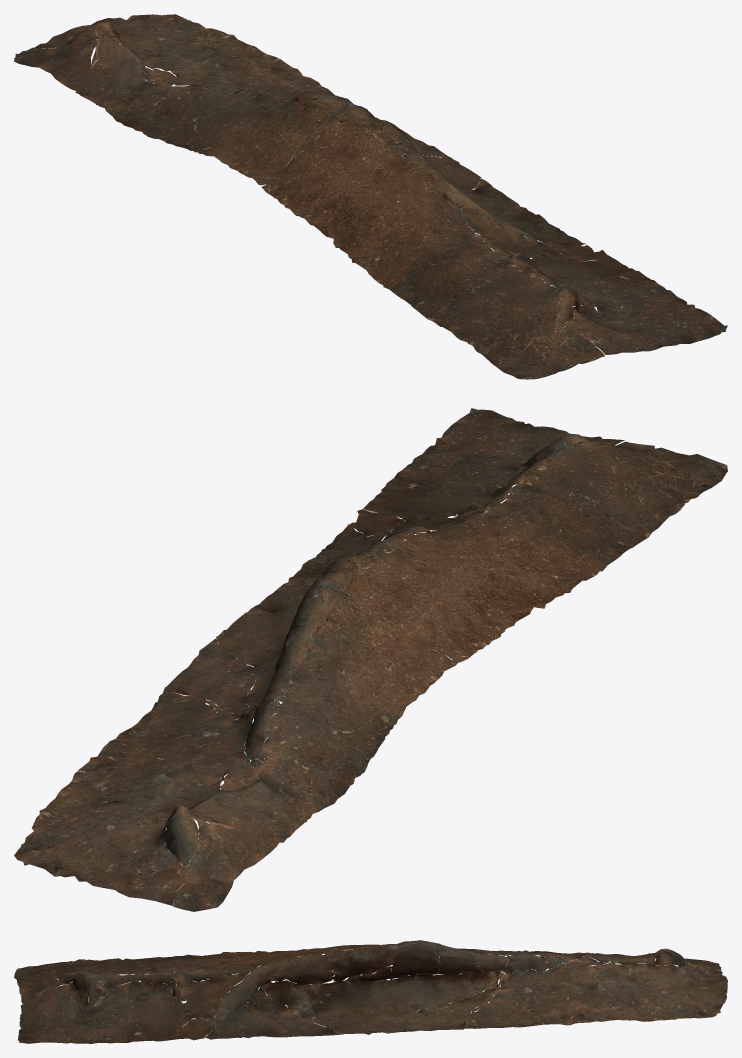
The model's file is single_root.glb.
3 renders of one model, top to bottom at view 1: azimuth 30°, elevation 25°; view 2: azimuth 150°, elevation 25°; view 3: azimuth 270°, elevation 25°, orthographic. The views are drawn at different scales.
Parts seen in each view (by area): view 1: single_root; view 2: single_root; view 3: single_root.
Part boxes in pixels (x1,y1,x2,y2): single_root: (14,14,727,379); single_root: (14,408,727,911); single_root: (14,940,727,1043).
Bounding box in the file's own units: 0.555 × 0.1782 × 1.84.
Materials: 1 (1 with a texture image).
